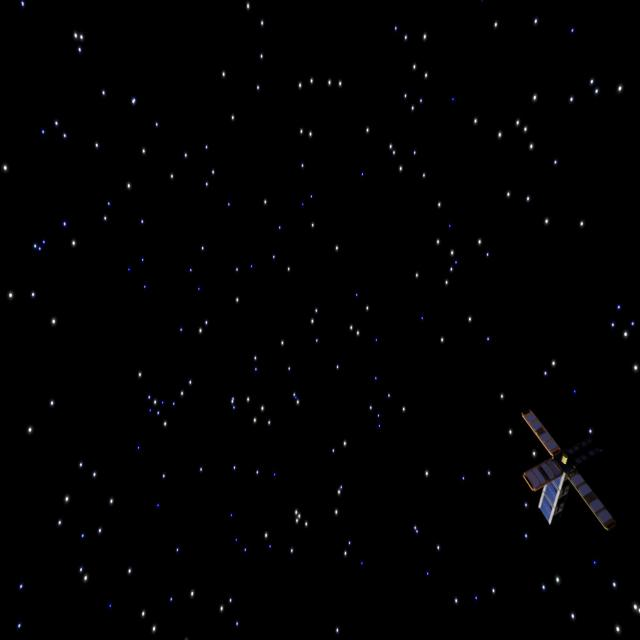medium_debris: (511, 405, 615, 531)
